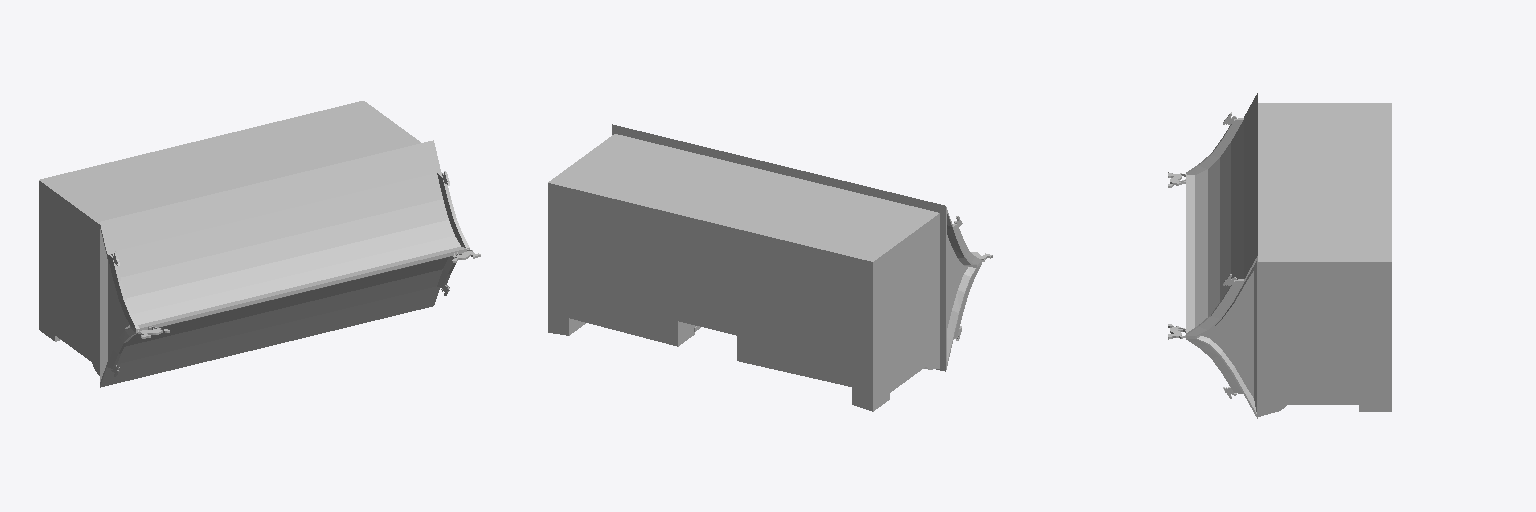
The model's file is china.obj.
The picture shows the model from 3 angles: view 1: azimuth 30°, elevation 25°; view 2: azimuth 150°, elevation 25°; view 3: azimuth 270°, elevation 25°; orthographic projection.
Parts seen in each view (by area): view 1: 10062_china_buddhist_temple_2009; view 2: 10062_china_buddhist_temple_2009; view 3: 10062_china_buddhist_temple_2009.
Boxes of the visible parts, x1=… form: 10062_china_buddhist_temple_2009: x1=39, y1=101, x2=480, y2=387; 10062_china_buddhist_temple_2009: x1=548, y1=124, x2=992, y2=411; 10062_china_buddhist_temple_2009: x1=1168, y1=93, x2=1391, y2=418.
Size of the model in its own units: 1 by 0.4681 by 0.5743.